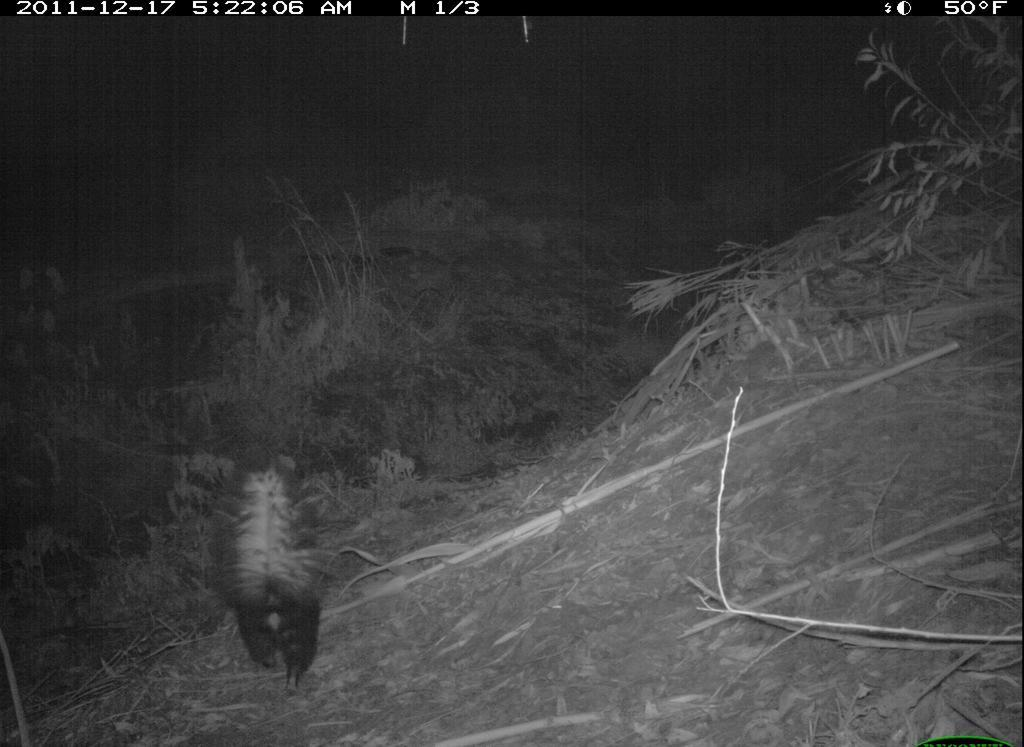skunk: (219, 441, 344, 698)
